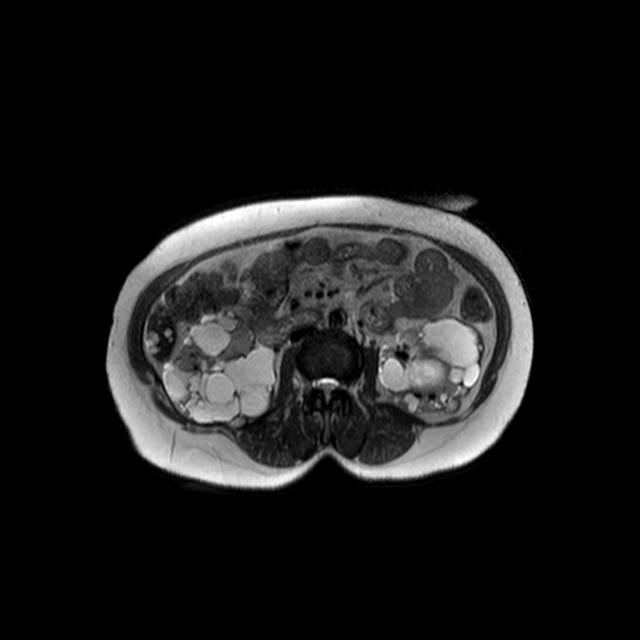sag: (161, 306, 276, 425)
sol: (377, 315, 483, 414)
